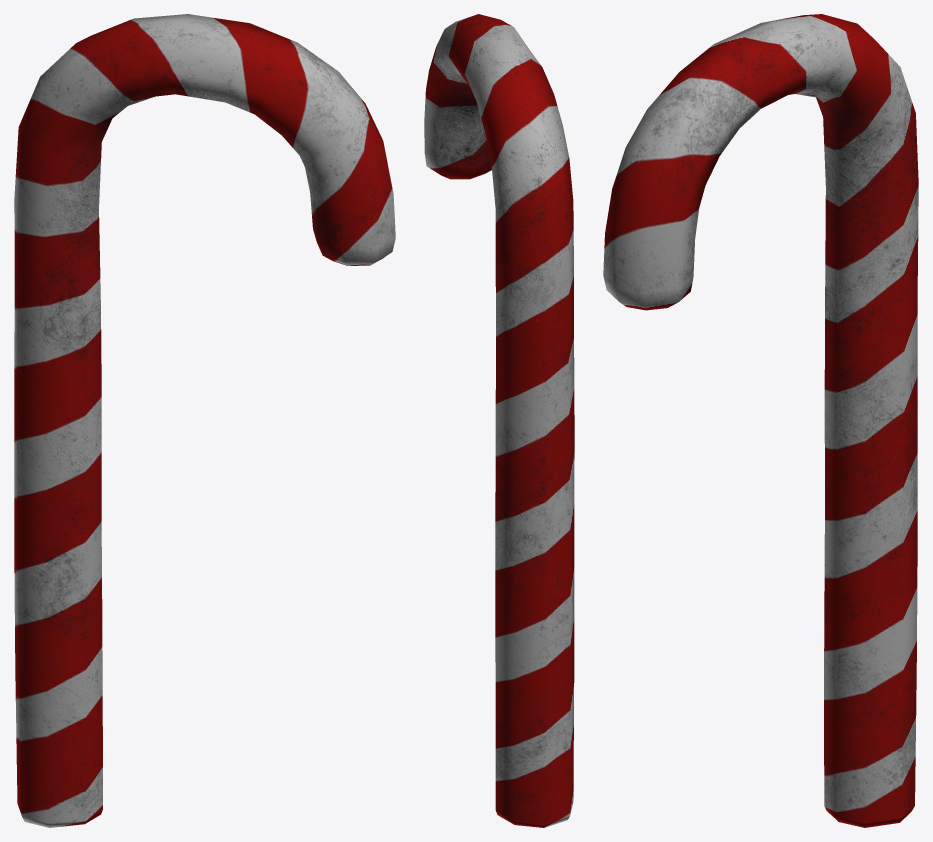
The model's file is candy_cane.obj.
3 views of the same model, side by side, from view 1: azimuth 30°, elevation 25°; view 2: azimuth 150°, elevation 25°; view 3: azimuth 270°, elevation 25° (orthographic). The views are drawn at different scales.
Parts seen in each view (by area): view 1: defaultMaterial_defaultMaterial.001; view 2: defaultMaterial_defaultMaterial.001; view 3: defaultMaterial_defaultMaterial.001.
Boxes of the visible parts, box(x1,y1,x2,y2) form: defaultMaterial_defaultMaterial.001: box(14, 14, 395, 827); defaultMaterial_defaultMaterial.001: box(424, 14, 574, 827); defaultMaterial_defaultMaterial.001: box(603, 14, 918, 827).
Bounding box in the file's own units: 5.58 × 16.29 × 5.61.
1 material, 1 textured.
